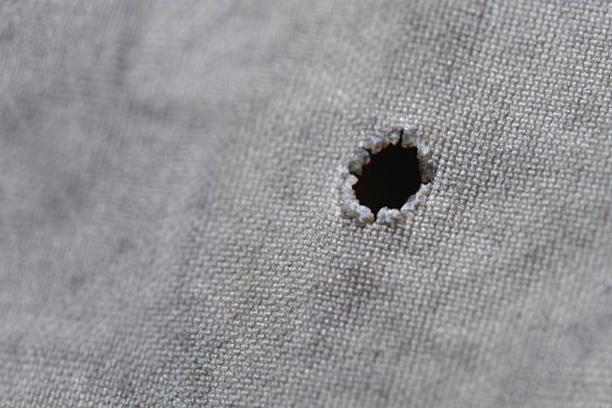hole: (337, 121, 442, 223)
